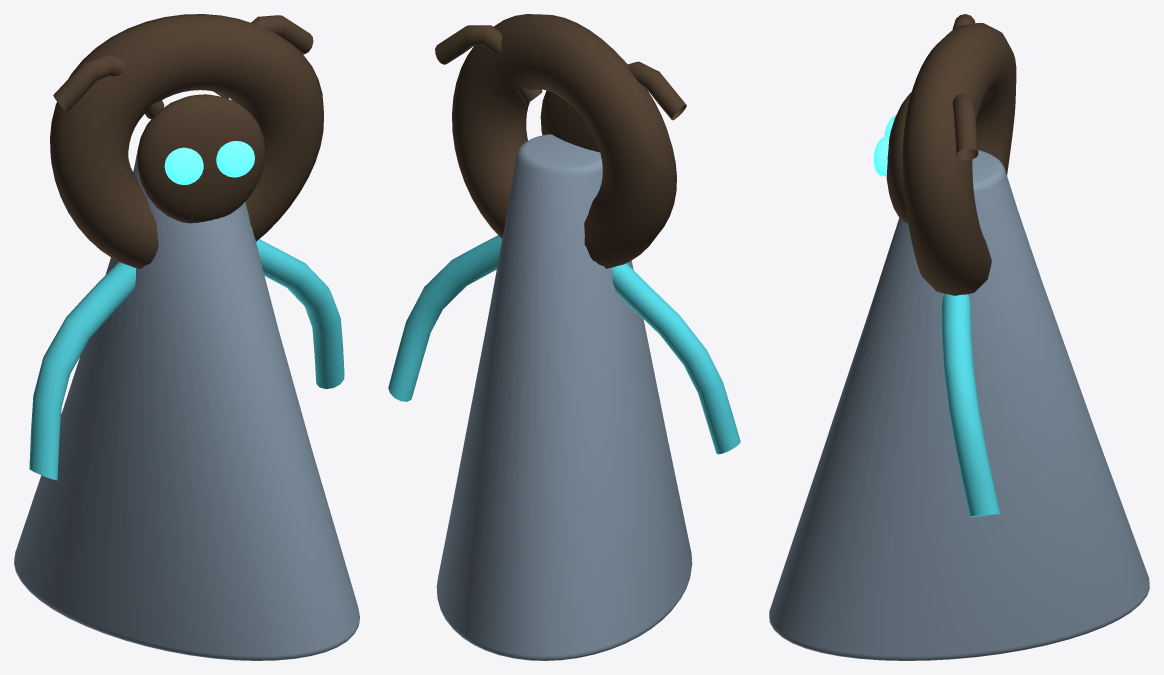
File: wraith_v8.glb
3 renders of one model, left to right at view 1: azimuth 30°, elevation 25°; view 2: azimuth 150°, elevation 25°; view 3: azimuth 270°, elevation 25°, orthographic. The views are drawn at different scales.
Visible parts, largest first — view 1: SPECTRE_ROBE_PRIMARY, SPECTRE_HOOD_SECONDARY, VOID_FACE_SECONDARY, SPECTRE_ARM_ACCENT, SPECTRE_ARM_ACCENT.001, SWEEP_ANTLER_SECONDARY, EYE_EMISSIVE, SWEEP_ANTLER_SECONDARY.001, EYE_EMISSIVE.001; view 2: SPECTRE_ROBE_PRIMARY, SPECTRE_HOOD_SECONDARY, SPECTRE_ARM_ACCENT, SPECTRE_ARM_ACCENT.001, VOID_FACE_SECONDARY, SWEEP_ANTLER_SECONDARY.001, SWEEP_ANTLER_SECONDARY; view 3: SPECTRE_ROBE_PRIMARY, SPECTRE_HOOD_SECONDARY, SPECTRE_ARM_ACCENT.001, VOID_FACE_SECONDARY, SWEEP_ANTLER_SECONDARY.001.
Part boxes in pixels (x1=…): SPECTRE_ROBE_PRIMARY: x1=14, y1=154, x2=359, y2=660; SPECTRE_HOOD_SECONDARY: x1=50, y1=14, x2=323, y2=268; VOID_FACE_SECONDARY: x1=137, y1=94, x2=265, y2=223; SPECTRE_ARM_ACCENT: x1=29, y1=262, x2=135, y2=480; SPECTRE_ARM_ACCENT.001: x1=256, y1=239, x2=344, y2=389; SWEEP_ANTLER_SECONDARY: x1=53, y1=53, x2=164, y2=119; EYE_EMISSIVE: x1=164, y1=147, x2=203, y2=184; SWEEP_ANTLER_SECONDARY.001: x1=213, y1=15, x2=313, y2=98; EYE_EMISSIVE.001: x1=216, y1=141, x2=254, y2=177; SPECTRE_ROBE_PRIMARY: x1=436, y1=134, x2=692, y2=660; SPECTRE_HOOD_SECONDARY: x1=452, y1=14, x2=676, y2=268; SPECTRE_ARM_ACCENT: x1=612, y1=263, x2=740, y2=454; SPECTRE_ARM_ACCENT.001: x1=388, y1=235, x2=502, y2=401; VOID_FACE_SECONDARY: x1=540, y1=90, x2=599, y2=152; SWEEP_ANTLER_SECONDARY.001: x1=435, y1=25, x2=542, y2=104; SWEEP_ANTLER_SECONDARY: x1=628, y1=61, x2=686, y2=120; SPECTRE_ROBE_PRIMARY: x1=769, y1=150, x2=1149, y2=660; SPECTRE_HOOD_SECONDARY: x1=902, y1=23, x2=1016, y2=295; SPECTRE_ARM_ACCENT.001: x1=941, y1=294, x2=1000, y2=516; VOID_FACE_SECONDARY: x1=886, y1=92, x2=911, y2=223; SWEEP_ANTLER_SECONDARY.001: x1=952, y1=93, x2=978, y2=160.
Size of the model in its own units: 1.91 by 3.15 by 1.91.
